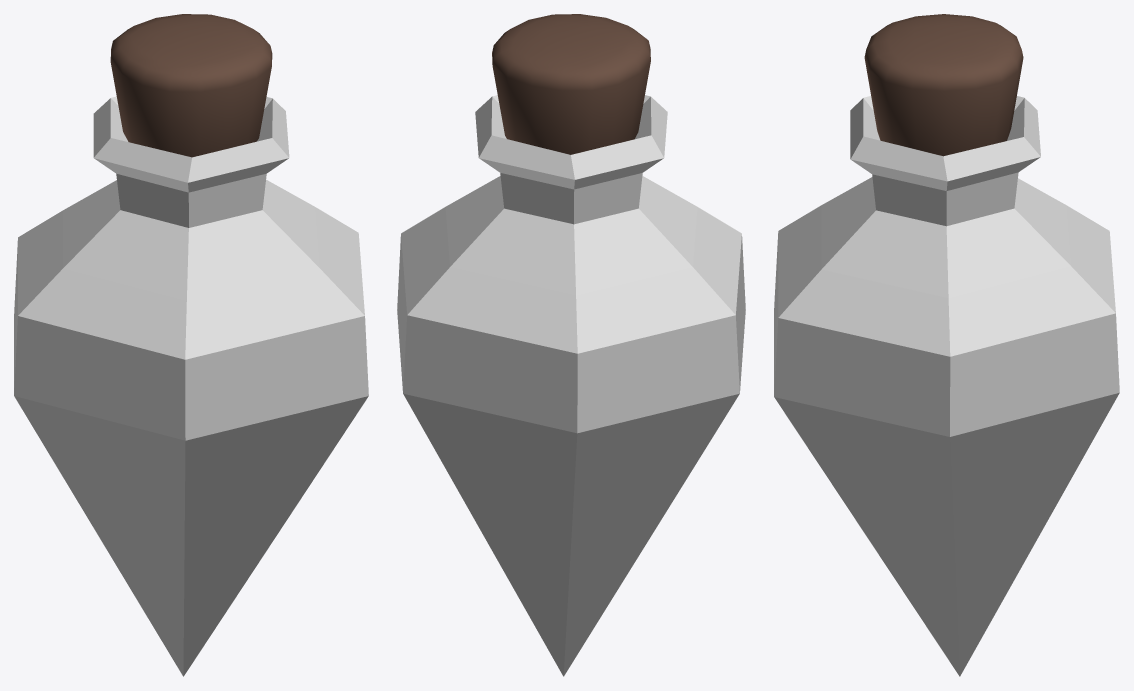
File: Potion10_Filled.glb
3 renders of one model, left to right at view 1: azimuth 30°, elevation 25°; view 2: azimuth 150°, elevation 25°; view 3: azimuth 270°, elevation 25°, orthographic.
Visible parts, largest first — view 1: Potion10_Filled; view 2: Potion10_Filled; view 3: Potion10_Filled.
Part boxes in pixels (x1,y1,x2,y2): Potion10_Filled: (14,14,368,676); Potion10_Filled: (397,14,745,676); Potion10_Filled: (774,14,1119,676).
Size of the model in its own units: 0.4379 by 0.7742 by 0.3792.
